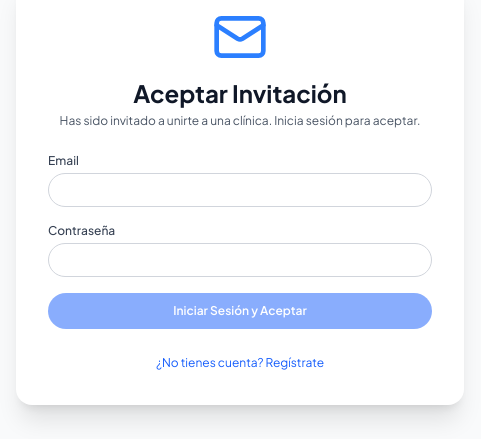
Test: AceptarInvitacion › debe mostrar error si aceptación de invitación falla
The image size is (481, 439).
Step 1. Type "user@test.com" into the field labelled "Email" → (240, 190), box [48, 173, 432, 207]
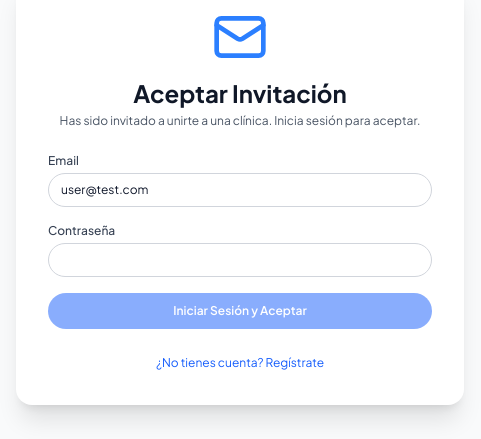
Step 2. Type "password123" into the password field labelled "Contraseña" → (240, 260), box [48, 243, 432, 277]
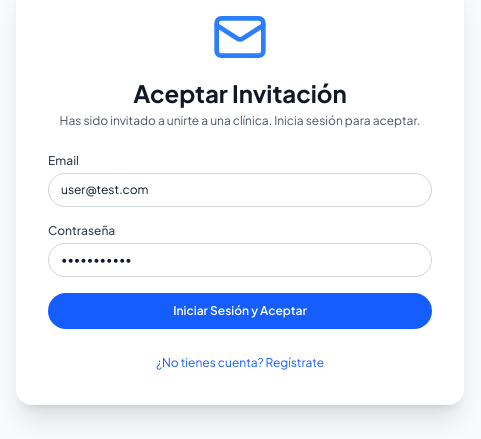
Step 3. Click the button "Iniciar Sesión y Aceptar" → (240, 311), box [48, 293, 432, 329]
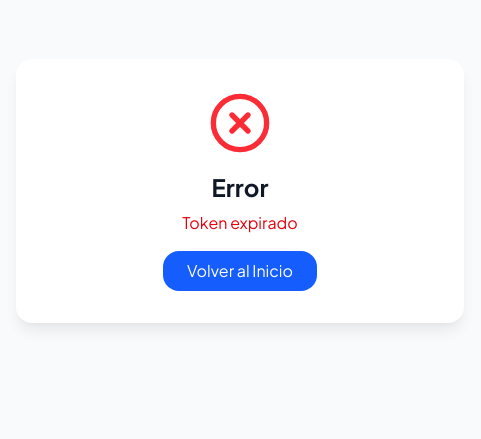
Expected: the text "Token expirado" is shown, [182, 212, 298, 233]
